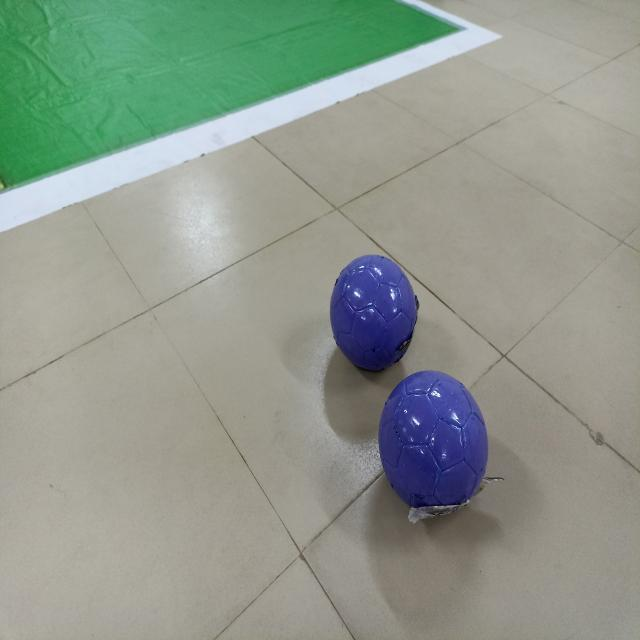purple_ball: (374, 365, 498, 511), (327, 252, 422, 374)
